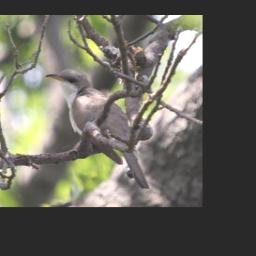Cuckoo: (43, 65, 149, 193)
